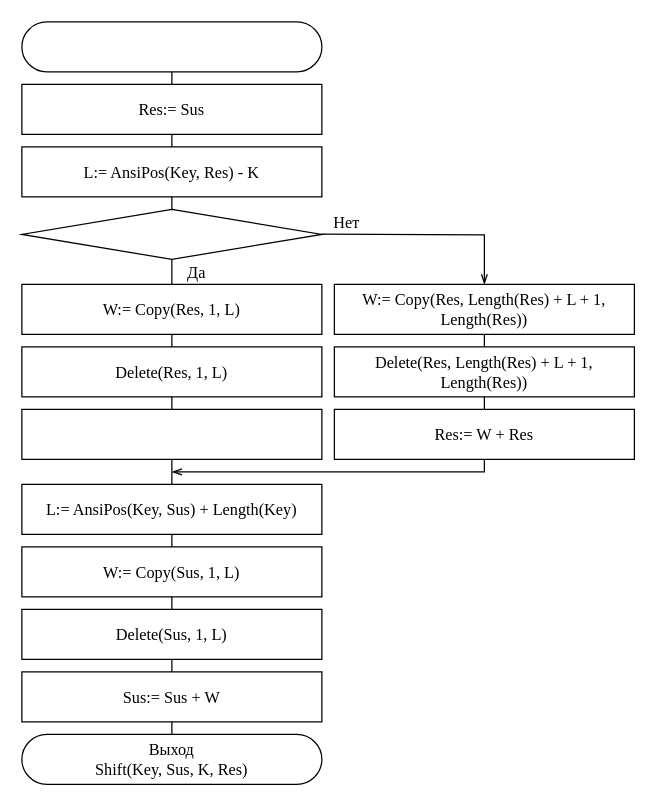
The diagram is 656 pixels wide and 806 high, and some of its shapes have lost their labels. Each missing label, with the centre of its shape:
L >= 0: point 171,233
Res:= Res + W: point 171,433
Вход Shift(Key, Sus, K, Res): point 171,46
